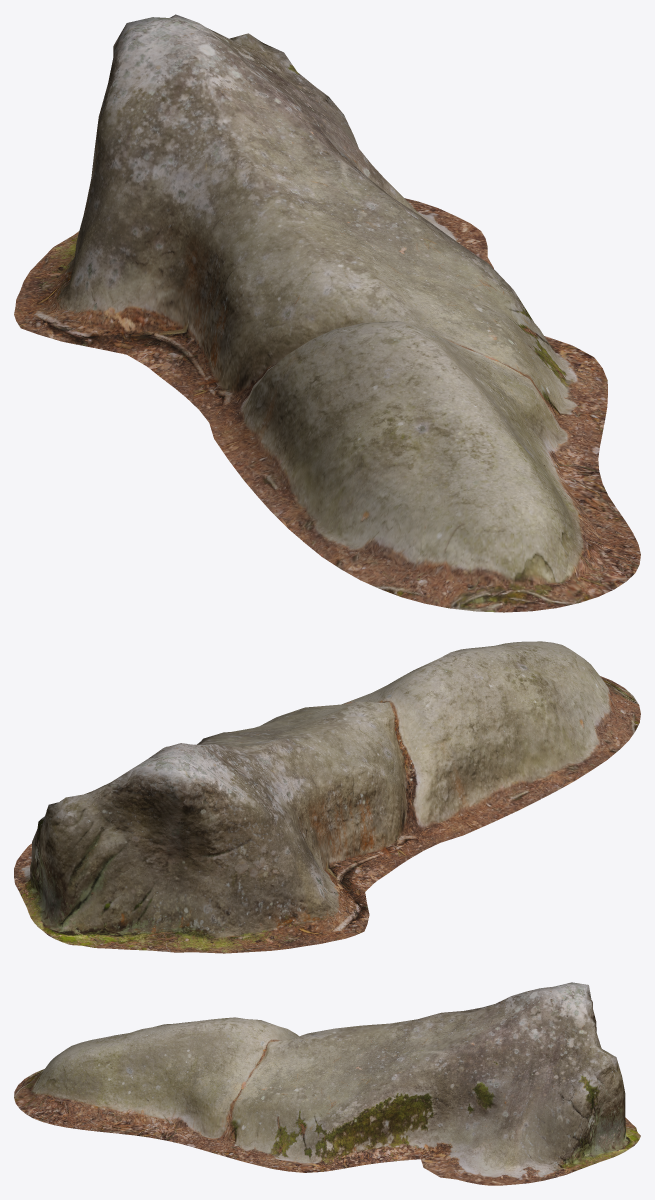
File: Rock_04.FBX
The picture shows the model from 3 angles, top to bottom: view 1: azimuth 30°, elevation 25°; view 2: azimuth 150°, elevation 25°; view 3: azimuth 270°, elevation 25°; orthographic projection. The views are drawn at different scales.
Parts seen in each view (by area): view 1: Rock04_LOD0; view 2: Rock04_LOD0; view 3: Rock04_LOD0.
Part boxes in pixels (x1,y1,x2,y2): Rock04_LOD0: (14, 14, 640, 612); Rock04_LOD0: (14, 641, 640, 953); Rock04_LOD0: (14, 982, 640, 1185).
Size of what is drawn, in the model's own units: 1.19 by 2.44 by 0.5487.
Materials: 1 (1 with a texture image).
